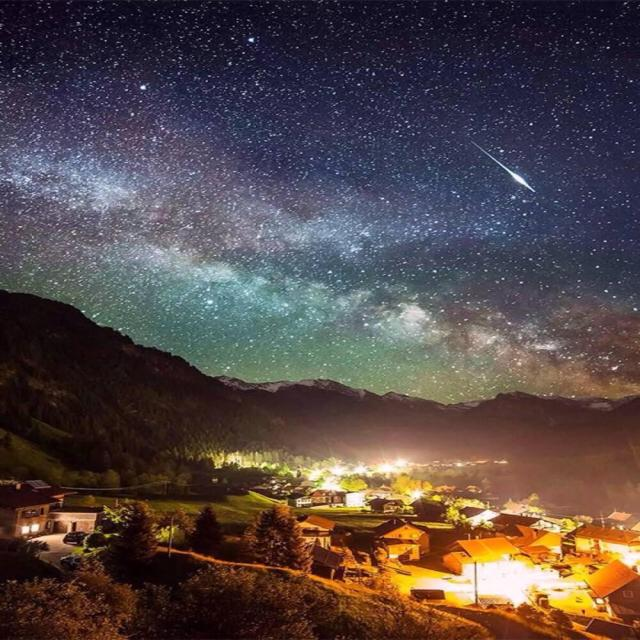other: (428, 548, 593, 608), (298, 451, 442, 514), (467, 137, 551, 205)
